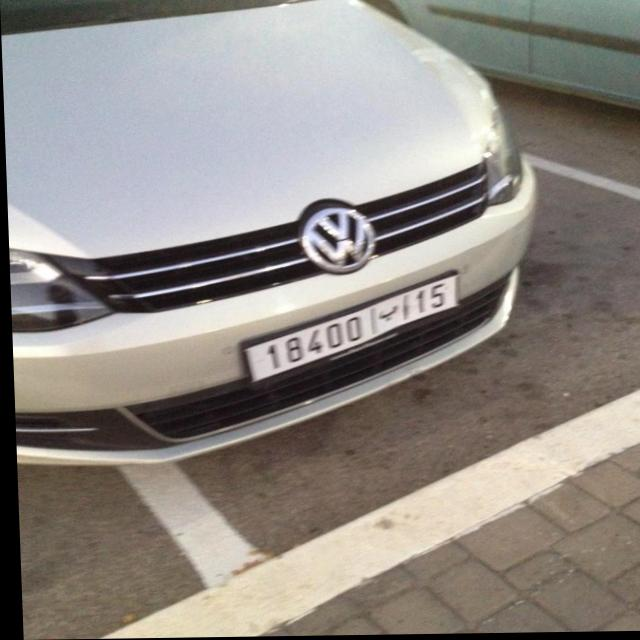License-Plate: (242, 277, 455, 382)
